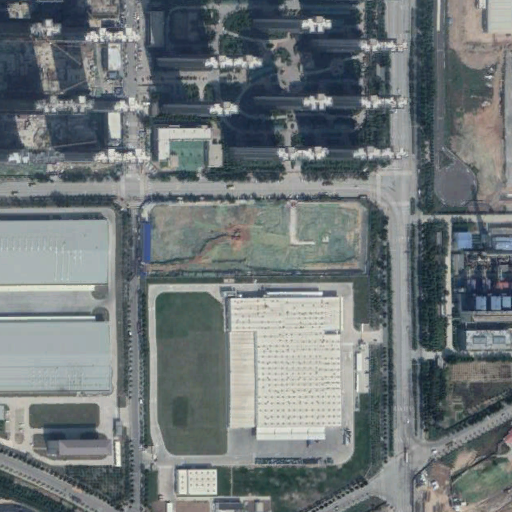cw: (141, 200, 367, 278)
